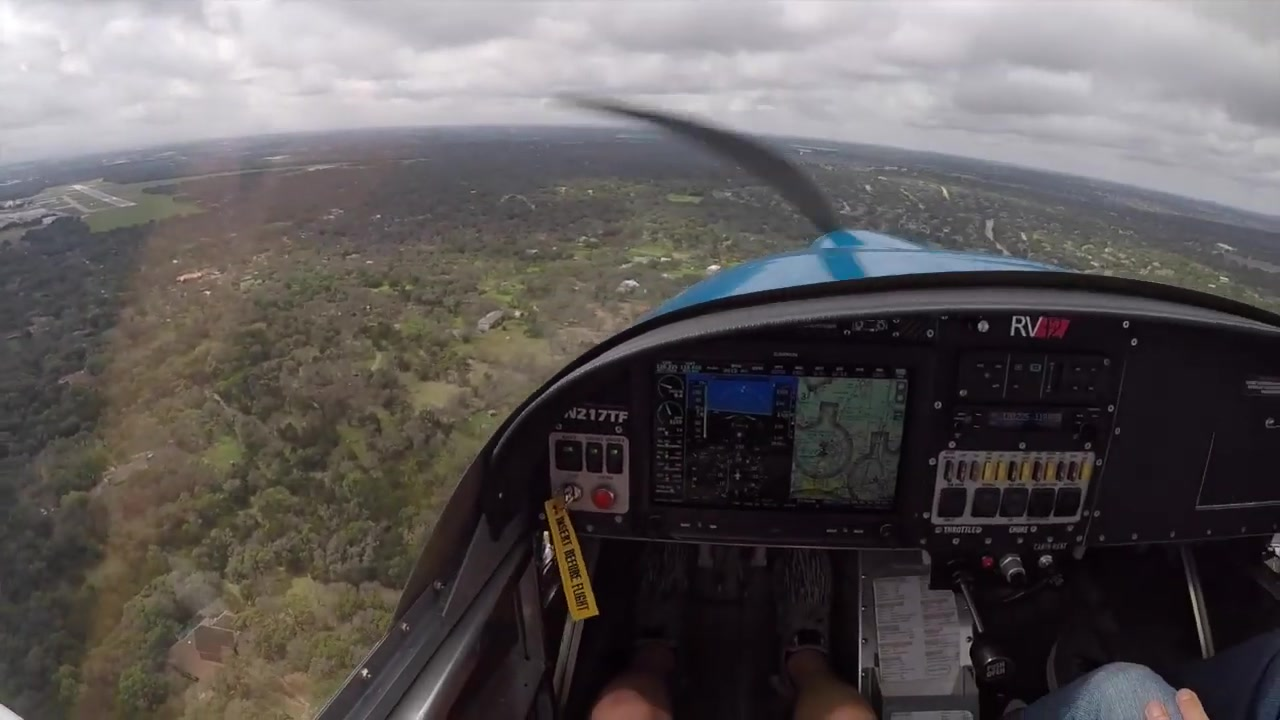runway: (69, 183, 137, 209)
